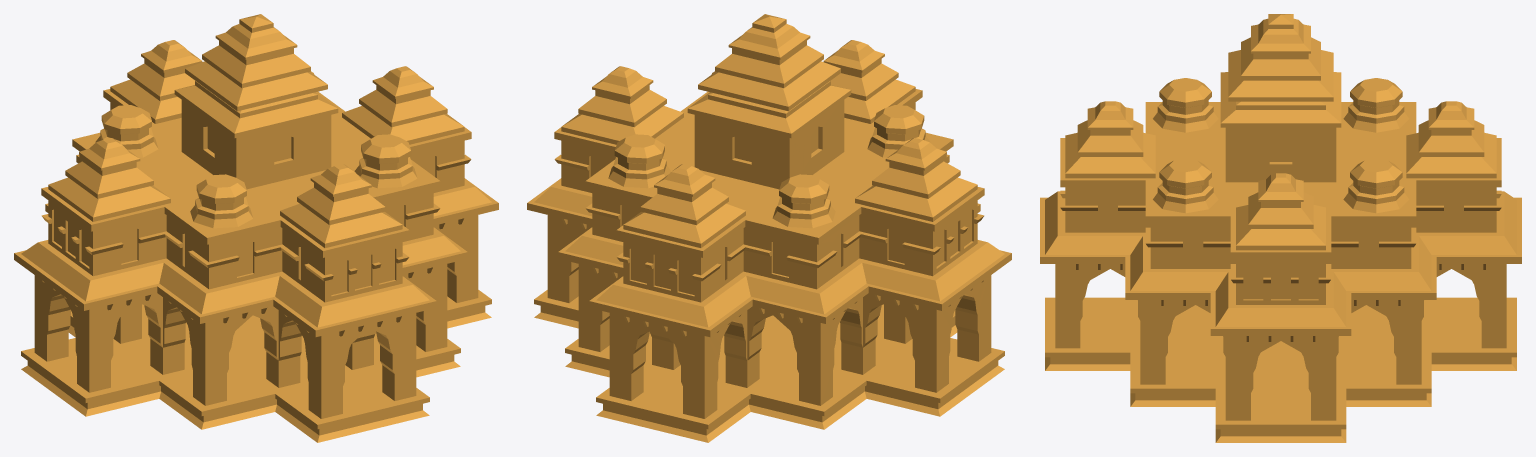
Rendered from hindu-palace-small.fbx.
The picture shows the model from 3 angles, left to right: view 1: azimuth 30°, elevation 25°; view 2: azimuth 150°, elevation 25°; view 3: azimuth 270°, elevation 25°; orthographic projection.
Visible parts, largest first — view 1: hindu-palace-small; view 2: hindu-palace-small; view 3: hindu-palace-small.
Boxes of the visible parts, x1,y1,x2,y2 form: hindu-palace-small: (14,14,498,442); hindu-palace-small: (527,14,1011,442); hindu-palace-small: (1040,14,1521,442).
Size of the model in its own units: 19.2 by 14.45 by 19.2.
